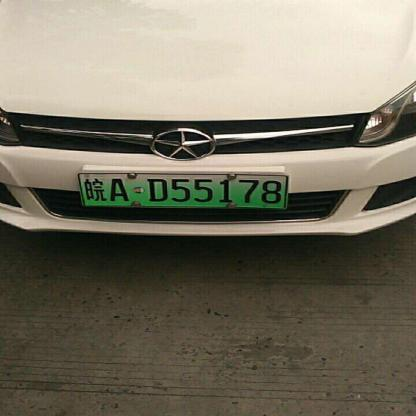lp: (78, 172, 287, 208)
